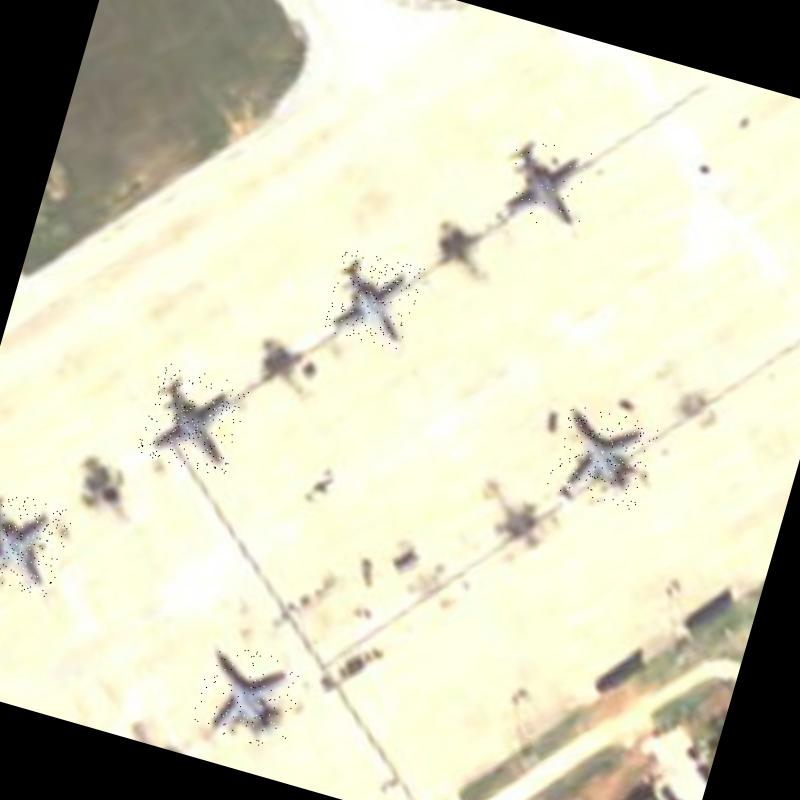A10: (135, 361, 250, 478), (188, 639, 306, 752), (546, 400, 660, 512), (320, 246, 426, 353), (497, 133, 600, 236), (0, 484, 74, 599)
